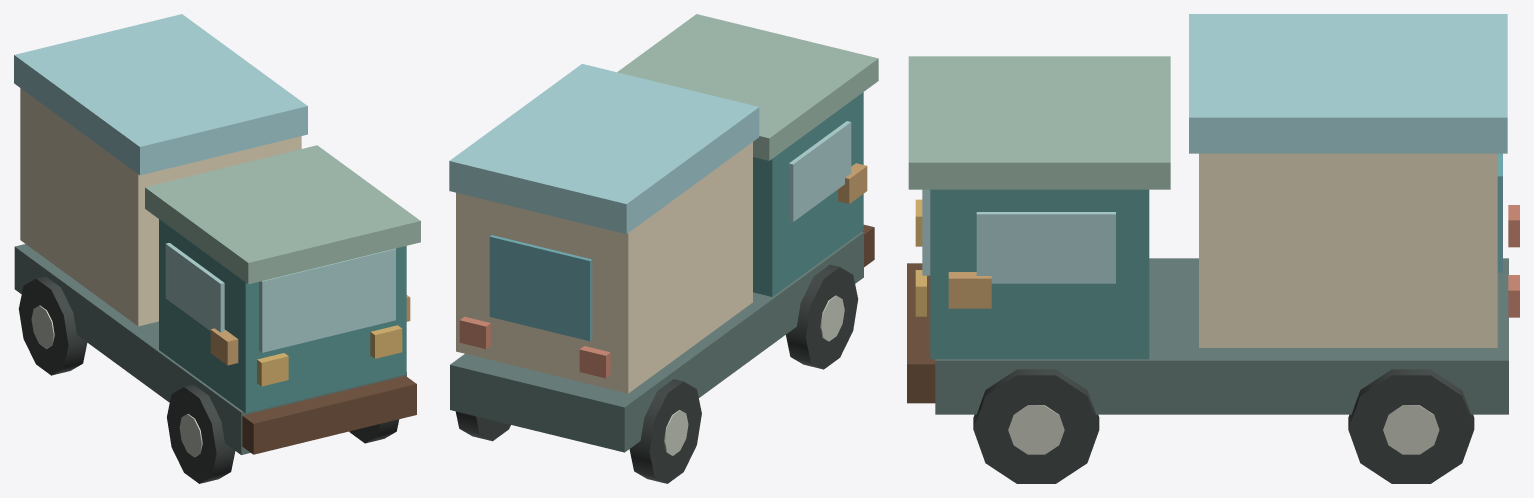
Rendered from refrigerated-van.glb.
3 renders of one model, left to right at view 1: azimuth 30°, elevation 25°; view 2: azimuth 150°, elevation 25°; view 3: azimuth 270°, elevation 25°, orthographic. The views are drawn at different scales.
Parts seen in each view (by area): view 1: refrigerated-van_ice, refrigerated-van_roofLight, refrigerated-van_cream, refrigerated-van_teal, refrigerated-van_glass, refrigerated-van_metalDark, refrigerated-van_woodDark, wheel_rear_left_tire, wheel_front_left_tire, refrigerated-van_gold, refrigerated-van_woodLight, wheel_front_left_hub (+2 smaller); view 2: refrigerated-van_cream, refrigerated-van_ice, refrigerated-van_metalDark, refrigerated-van_roofLight, refrigerated-van_teal, refrigerated-van_iceDark, wheel_rear_left_tire, wheel_front_left_tire, refrigerated-van_glass, refrigerated-van_accent, wheel_rear_right_tire, refrigerated-van_woodLight (+2 smaller); view 3: refrigerated-van_cream, refrigerated-van_ice, refrigerated-van_roofLight, refrigerated-van_metalDark, refrigerated-van_teal, refrigerated-van_glass, wheel_rear_right_tire, wheel_front_right_tire, refrigerated-van_woodDark, wheel_rear_right_hub, wheel_front_right_hub, refrigerated-van_woodLight (+3 smaller).
Part boxes in pixels (x1,y1,x2,y2): refrigerated-van_ice: (14, 14, 307, 175); refrigerated-van_roofLight: (145, 145, 420, 284); refrigerated-van_cream: (20, 88, 301, 326); refrigerated-van_teal: (159, 219, 406, 413); refrigerated-van_glass: (165, 243, 395, 352); refrigerated-van_metalDark: (14, 244, 406, 454); refrigerated-van_woodDark: (242, 376, 416, 454); wheel_rear_left_tire: (18, 276, 87, 375); wheel_front_left_tire: (167, 384, 235, 483); refrigerated-van_gold: (257, 325, 402, 386); refrigerated-van_woodLight: (210, 295, 410, 365); wheel_front_left_hub: (179, 414, 202, 457); refrigerated-van_cream: (456, 142, 752, 393); refrigerated-van_ice: (449, 64, 759, 234); refrigerated-van_metalDark: (450, 232, 863, 452); refrigerated-van_roofLight: (617, 14, 878, 160); refrigerated-van_teal: (753, 92, 863, 296); refrigerated-van_iceDark: (489, 235, 592, 341); wheel_rear_left_tire: (629, 379, 701, 483); wheel_front_left_tire: (786, 264, 858, 369); refrigerated-van_glass: (789, 121, 851, 221); refrigerated-van_accent: (459, 316, 610, 378); wheel_rear_right_tire: (455, 411, 510, 441); refrigerated-van_woodLight: (838, 163, 867, 203); refrigerated-van_cream: (1199, 153, 1497, 347); refrigerated-van_ice: (1189, 14, 1507, 153); refrigerated-van_roofLight: (908, 56, 1170, 189); refrigerated-van_metalDark: (935, 258, 1508, 414); refrigerated-van_teal: (930, 189, 1149, 359); refrigerated-van_glass: (922, 189, 1115, 283); wheel_rear_right_tire: (1348, 369, 1474, 483); wheel_front_right_tire: (973, 369, 1099, 483); refrigerated-van_woodDark: (907, 263, 935, 403); wheel_rear_right_hub: (1383, 405, 1439, 454); wheel_front_right_hub: (1008, 405, 1064, 454); refrigerated-van_woodLight: (948, 272, 991, 308).
Bounding box in the file's own units: 0.824 × 1.2 × 1.85.
